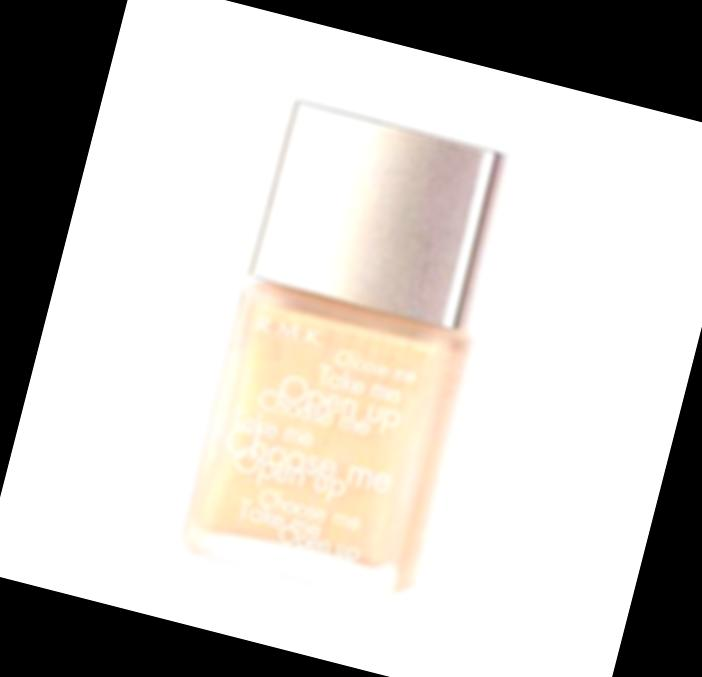cosmetic: (170, 94, 529, 612)
